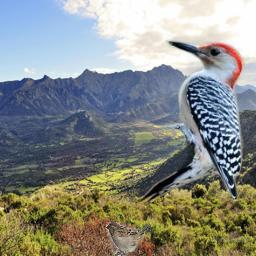Sparrow: (106, 222, 150, 256)
Woodpecker: (131, 33, 253, 216)
